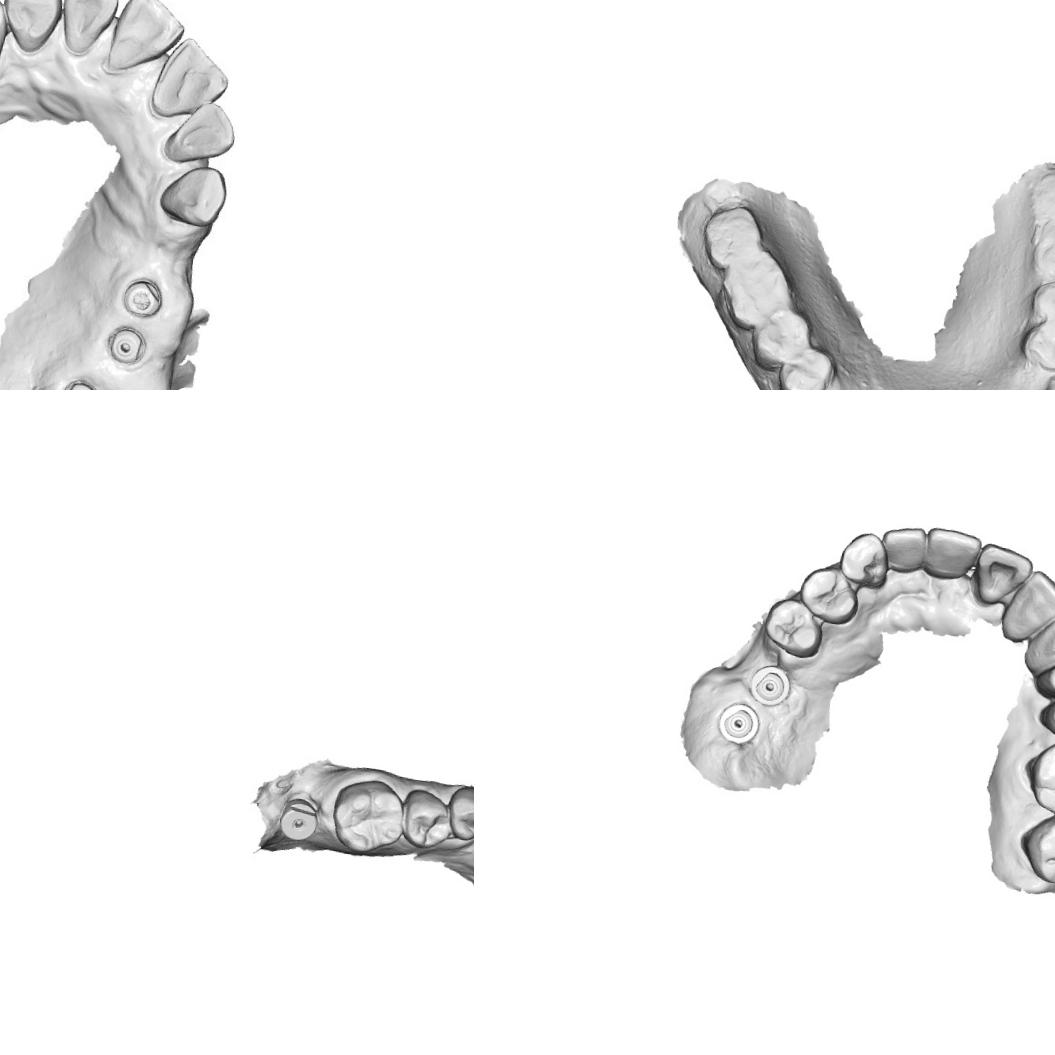canine: (154, 160, 232, 230), (836, 527, 894, 591), (0, 0, 64, 56), (1024, 605, 1055, 675), (1016, 369, 1055, 390)
implant: (275, 794, 322, 844), (120, 276, 168, 324), (715, 698, 763, 746), (747, 662, 794, 708), (109, 323, 150, 365), (53, 377, 102, 390)
incisor: (147, 30, 236, 124), (160, 93, 246, 169), (104, 0, 194, 72), (970, 540, 1036, 610), (921, 524, 984, 585), (54, 0, 122, 53), (1008, 565, 1055, 636), (877, 521, 932, 577)
molar: (712, 252, 800, 336), (326, 774, 411, 858), (698, 199, 770, 277), (1018, 801, 1055, 891), (1020, 729, 1055, 823), (1027, 217, 1055, 291), (1026, 167, 1055, 236)
premolar: (748, 302, 816, 374), (759, 594, 828, 662), (794, 562, 864, 629), (396, 786, 456, 852), (771, 341, 840, 390), (1017, 312, 1055, 378), (443, 782, 474, 845), (1026, 273, 1055, 331), (1031, 647, 1055, 703), (1034, 686, 1055, 746)
